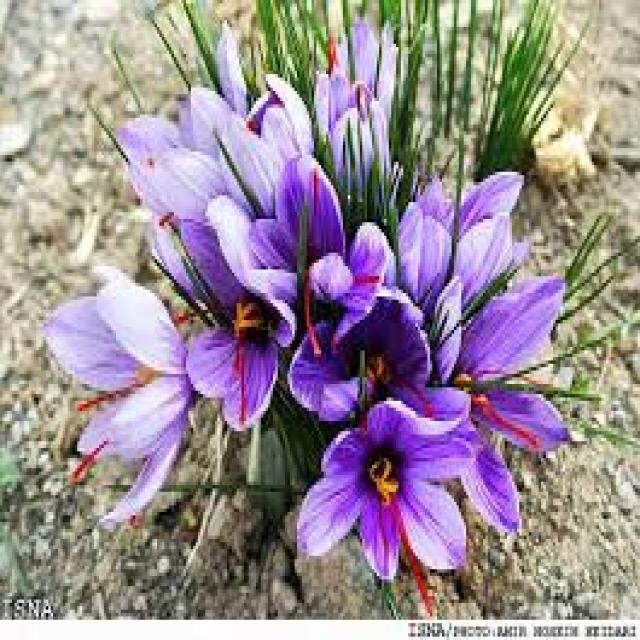Flower: (21, 266, 188, 536), (437, 284, 590, 544), (316, 404, 478, 582), (178, 205, 294, 434), (302, 295, 431, 421), (414, 168, 522, 280)
stigma: (384, 493, 438, 612), (472, 375, 542, 453), (225, 328, 265, 434), (300, 174, 328, 258), (72, 435, 108, 479)
